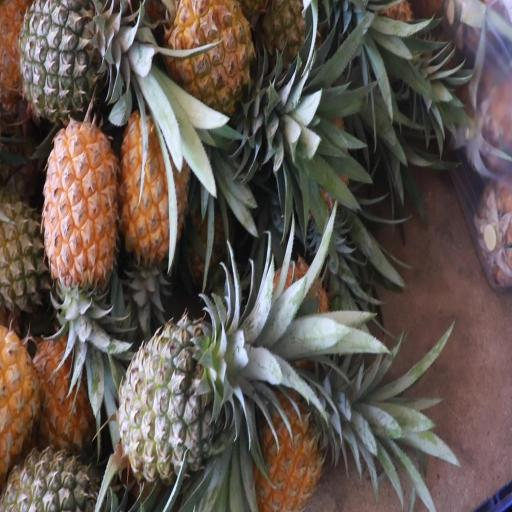Pineapple - v8 v1: (163, 4, 280, 144), (45, 119, 117, 333), (118, 107, 189, 270)
